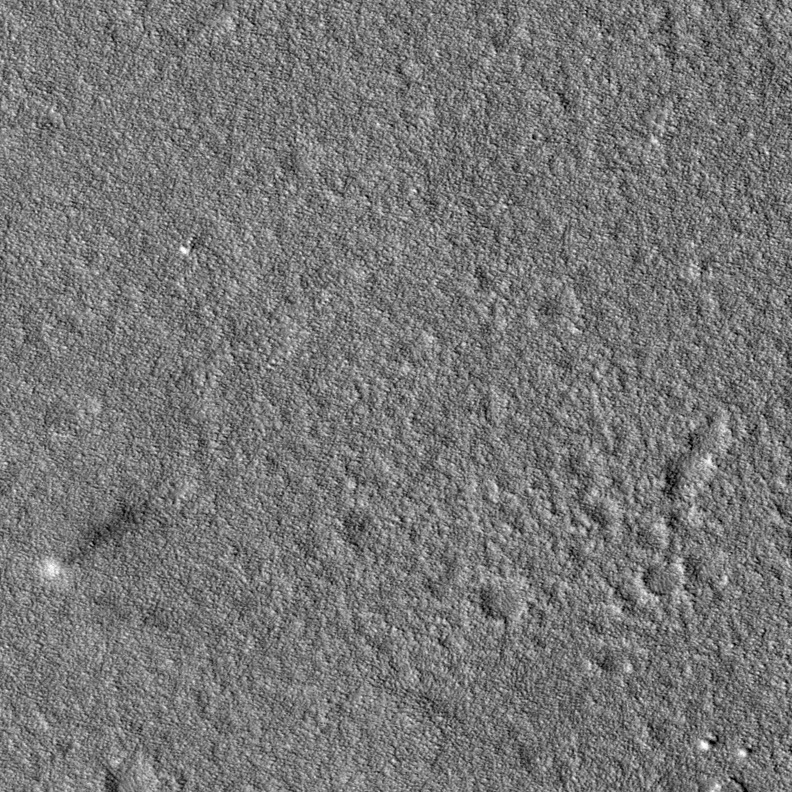dust_devil: (36, 501, 144, 586)
